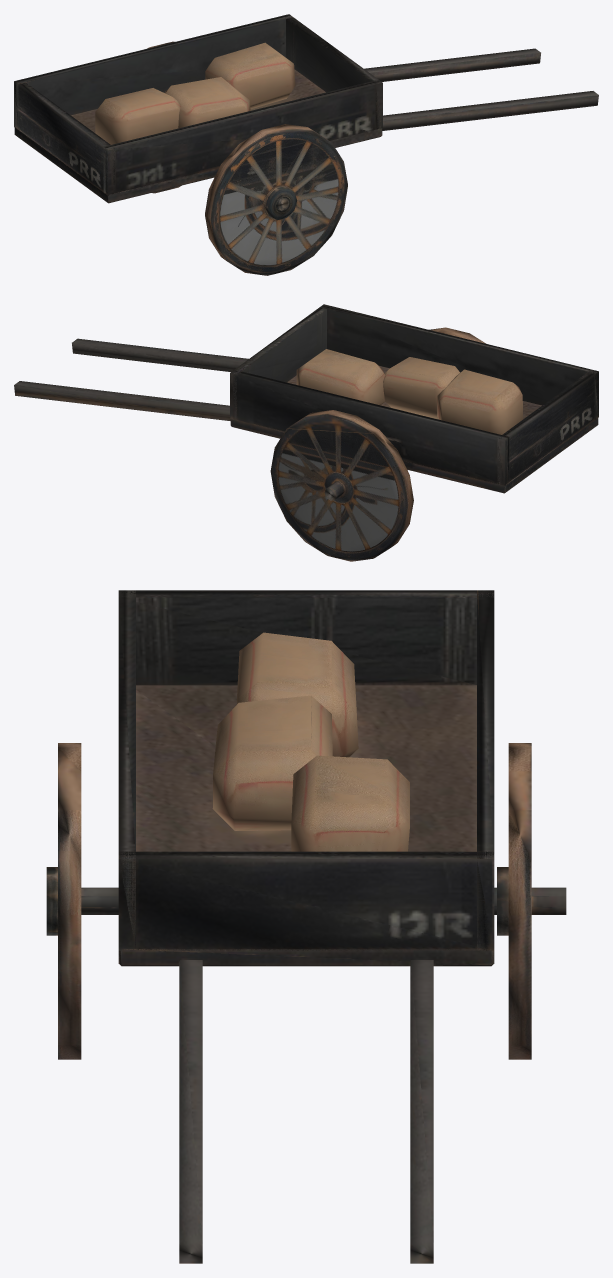
Rendered from cart.glb.
The picture shows the model from 3 angles, top to bottom: view 1: azimuth 30°, elevation 25°; view 2: azimuth 150°, elevation 25°; view 3: azimuth 270°, elevation 25°; orthographic projection. The views are drawn at different scales.
Visible parts, largest first — view 1: cart; view 2: cart; view 3: cart.
Part boxes in pixels (box(x1,y1,x2,y2)): cart: box(14, 14, 598, 275); cart: box(14, 304, 598, 561); cart: box(46, 590, 566, 1263).
Size of the model in its own units: 4.05 by 1.17 by 1.8.
1 material, 1 textured.
